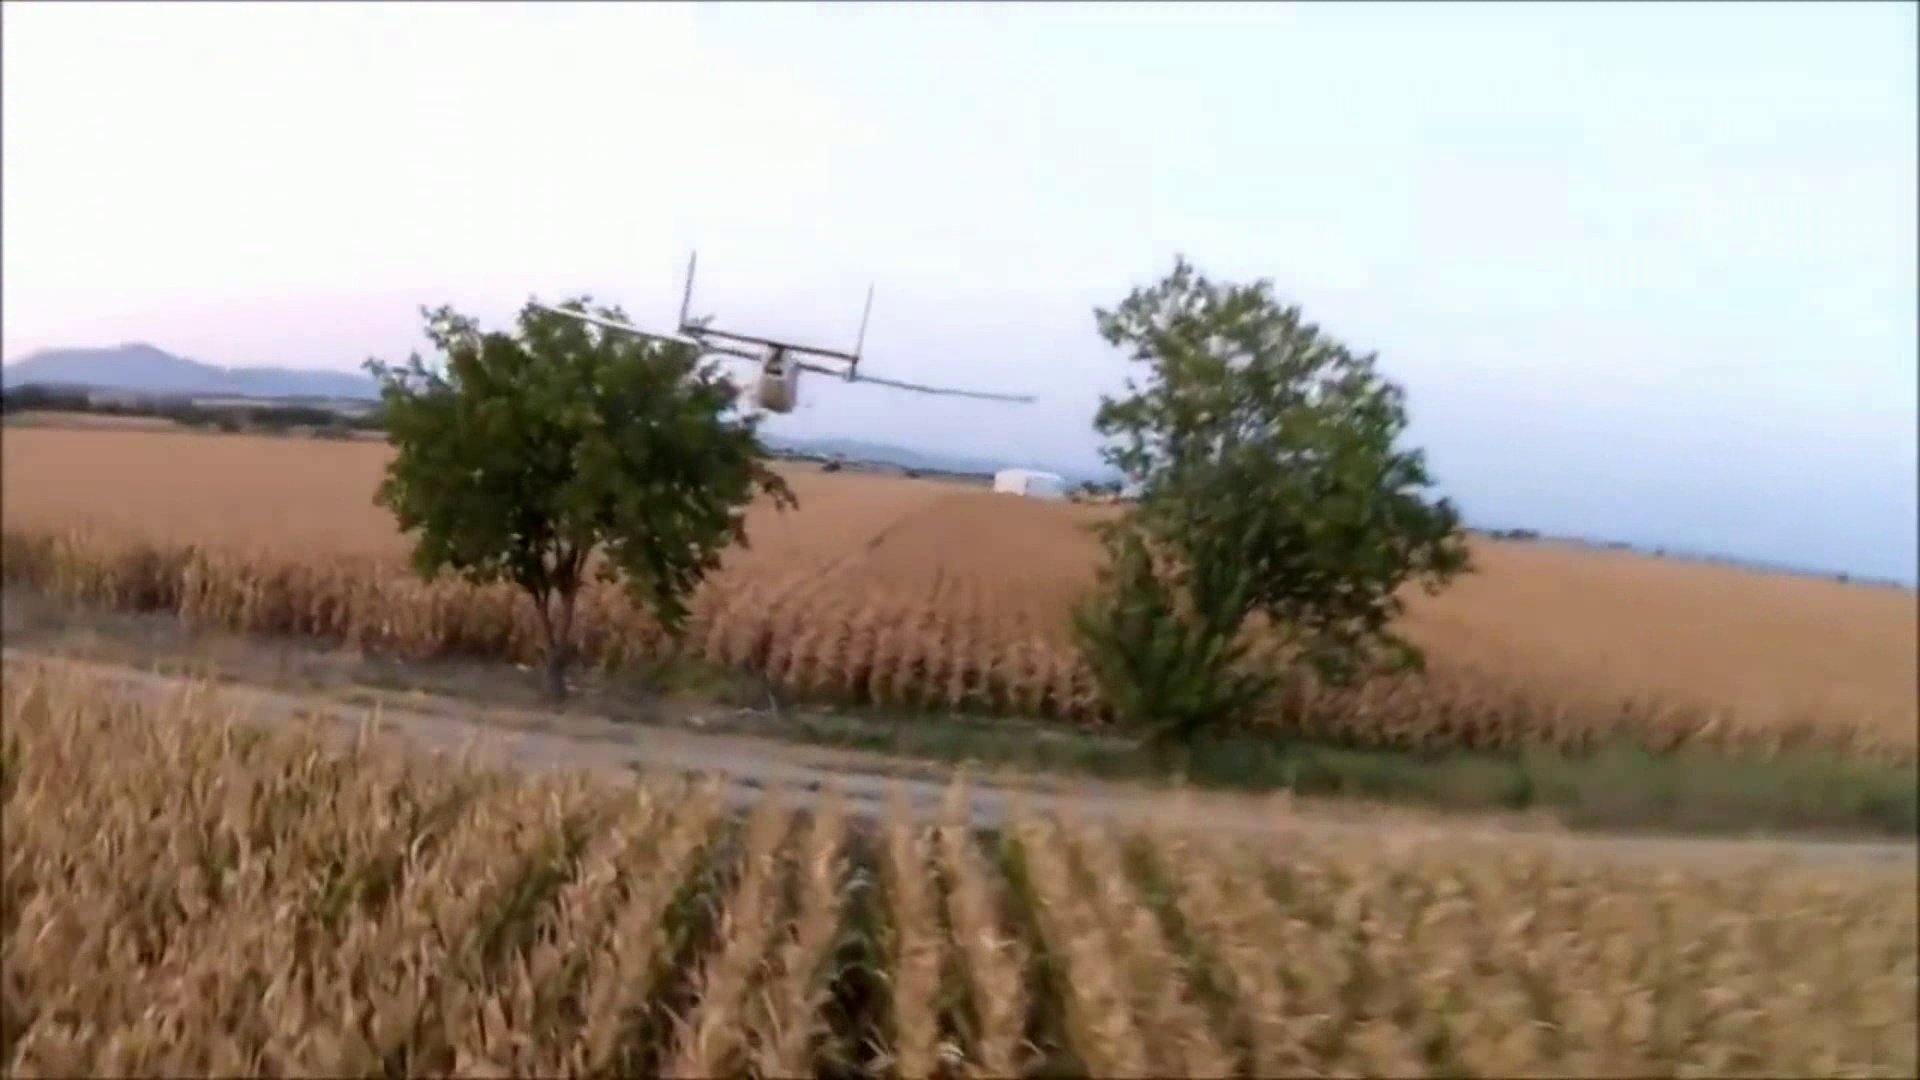airplane: (570, 246, 1131, 506)
